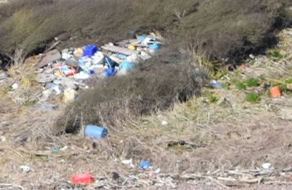scattered_barrel: (18, 118, 152, 187), (206, 52, 286, 103)
together_barrel: (24, 28, 164, 101)
